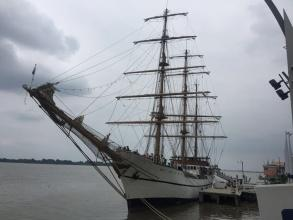fanchuan: (21, 5, 247, 203)
